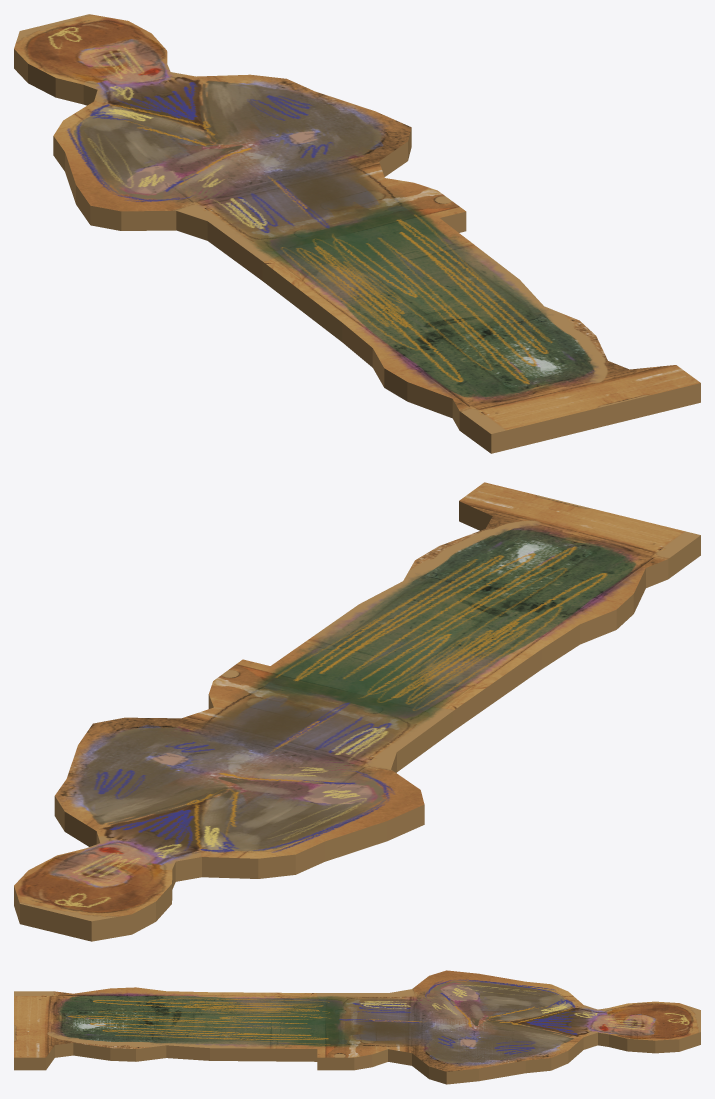
The model's file is Customer02.fbx.
3 renders of one model, top to bottom at view 1: azimuth 30°, elevation 25°; view 2: azimuth 150°, elevation 25°; view 3: azimuth 270°, elevation 25°, orthographic. The views are drawn at different scales.
Visible parts, largest first — view 1: Customer_Mesh_05; view 2: Customer_Mesh_05; view 3: Customer_Mesh_05.
Part boxes in pixels (x1=…): Customer_Mesh_05: x1=14, y1=14, x2=700, y2=453; Customer_Mesh_05: x1=14, y1=482, x2=700, y2=941; Customer_Mesh_05: x1=14, y1=970, x2=700, y2=1084.
Size of the model in its own units: 1.73 by 0.1011 by 4.94.
